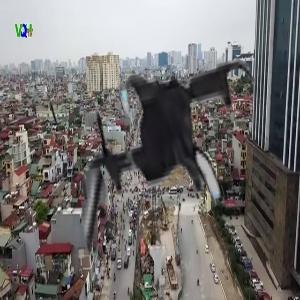drone: (60, 30, 277, 247)
